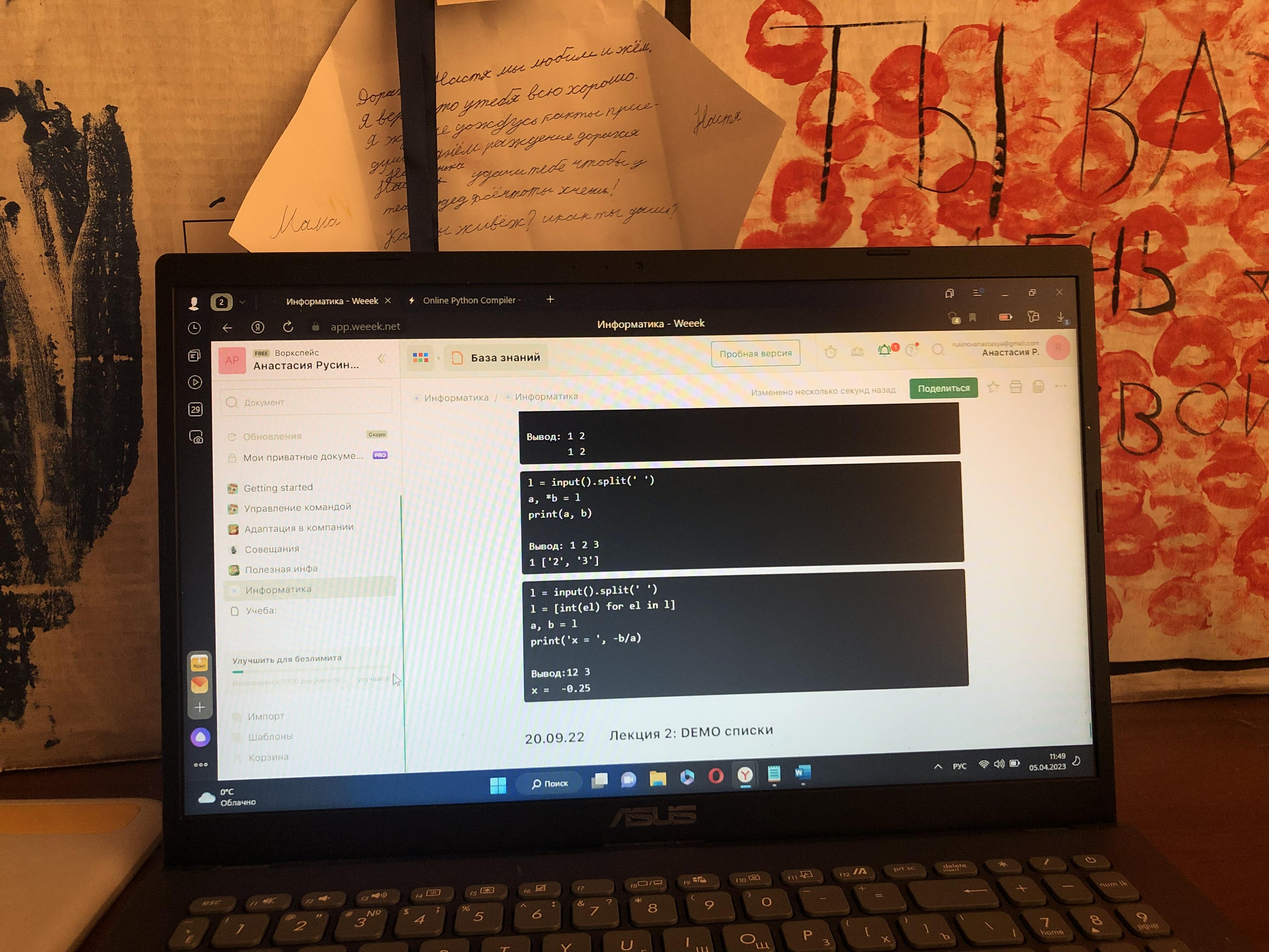monitor: (149, 244, 1111, 859)
